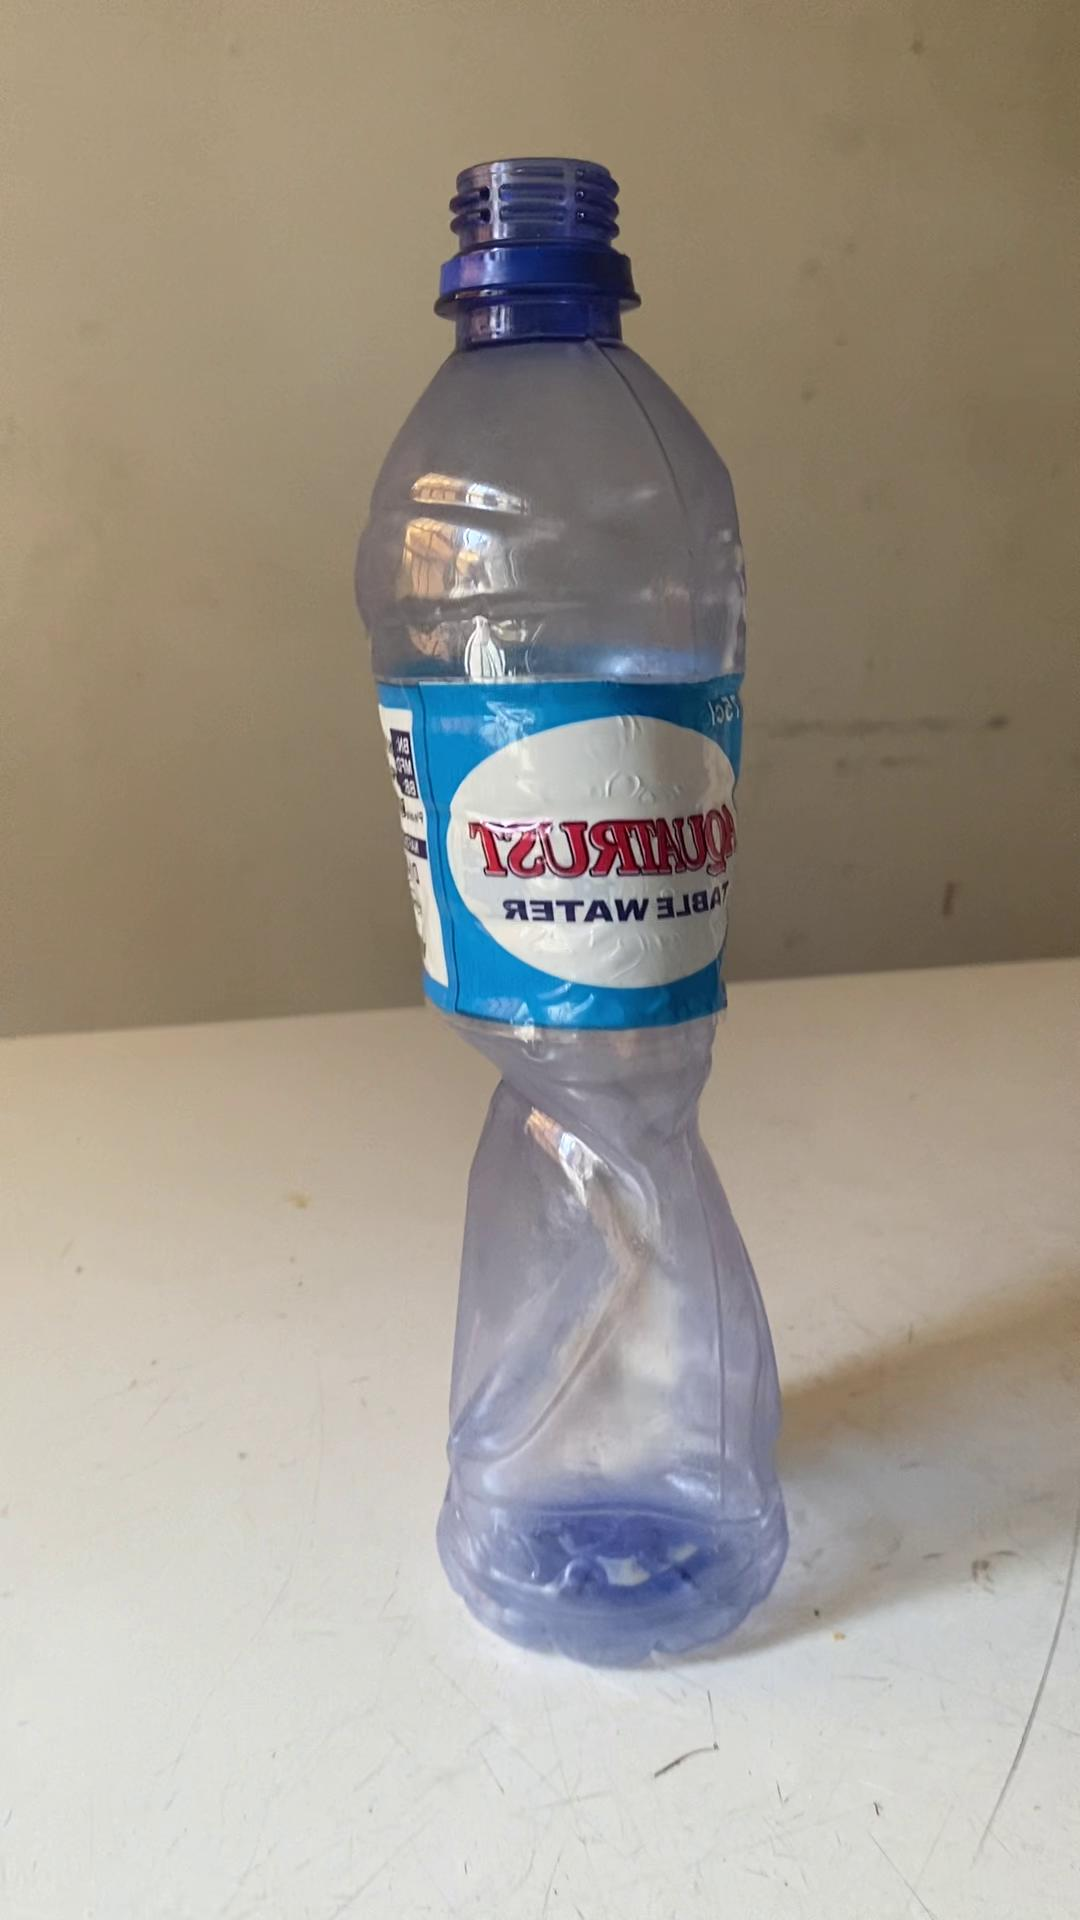crumbled: (342, 145, 799, 1673)
label: (410, 678, 746, 1030)
no-cap: (426, 153, 650, 318)
